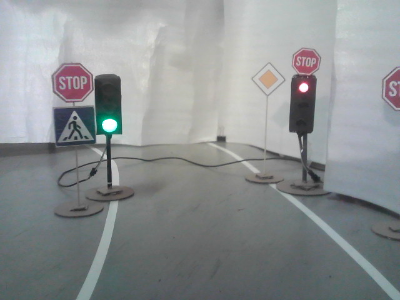crosswalk: (56, 108, 94, 145)
priority_road: (252, 63, 285, 96)
stop: (52, 63, 91, 101), (293, 50, 318, 73)
trafficlight_green: (96, 78, 122, 136)
trafficlight_red: (290, 77, 314, 131)
